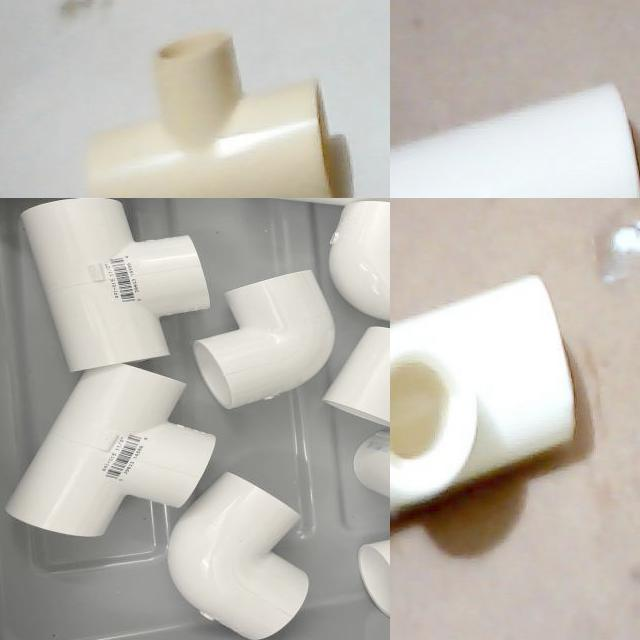L Joint: (192, 271, 334, 412), (328, 201, 390, 323)
T Joint: (390, 276, 596, 538), (86, 32, 334, 198), (11, 369, 218, 540), (19, 198, 209, 374), (390, 83, 640, 198), (164, 475, 311, 640)
